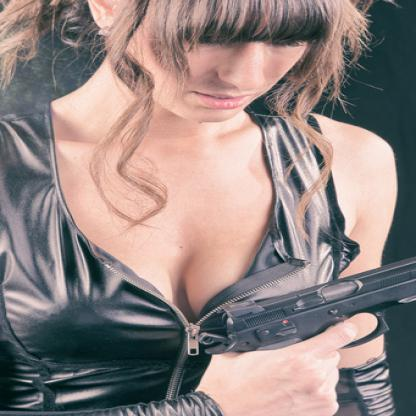gun: (192, 239, 414, 359)
